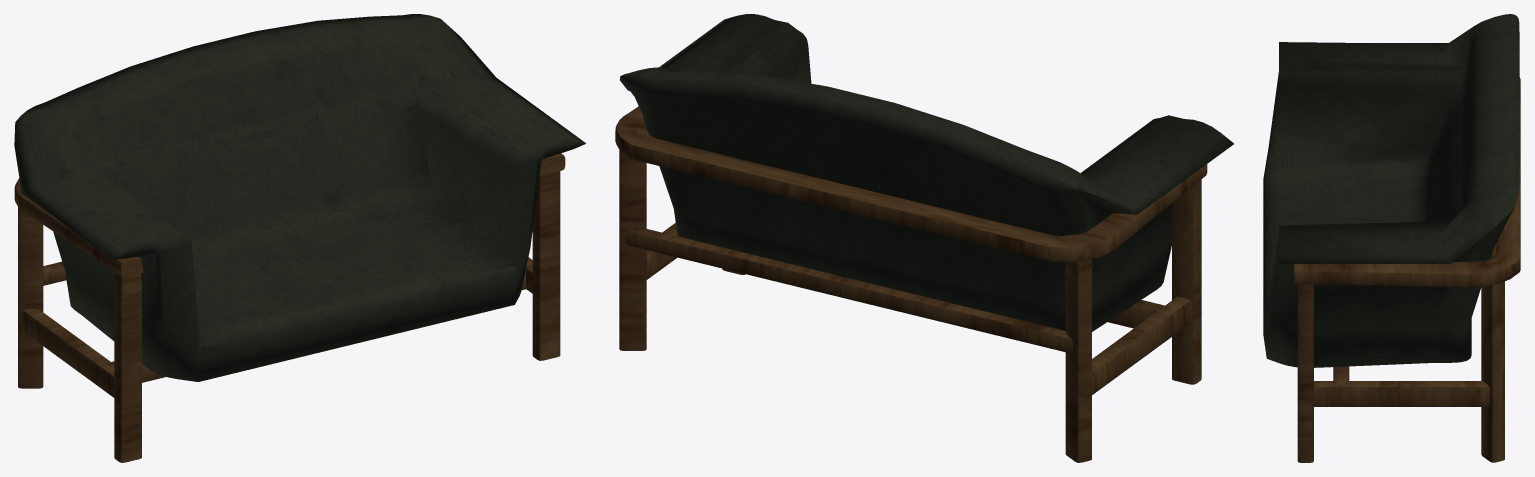
The model's file is LC_3005_ChairA_LOD3.FBX.
The picture shows the model from 3 angles, left to right: view 1: azimuth 30°, elevation 25°; view 2: azimuth 150°, elevation 25°; view 3: azimuth 270°, elevation 25°; orthographic projection. The views are drawn at different scales.
Parts seen in each view (by area): view 1: LC_3005_ChairA_LOD3; view 2: LC_3005_ChairA_LOD3; view 3: LC_3005_ChairA_LOD3.
Boxes of the visible parts, box(x1,y1,x2,y2) form: LC_3005_ChairA_LOD3: box(14, 14, 585, 462); LC_3005_ChairA_LOD3: box(615, 14, 1233, 462); LC_3005_ChairA_LOD3: box(1263, 14, 1520, 462).
Size of the model in its own units: 129 by 74.34 by 63.5.
Materials: 1 (1 with a texture image).
